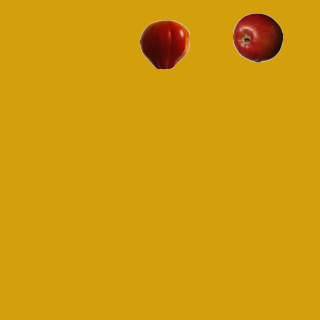Apple Braeburn: (232, 12, 282, 62)
Tomato 1: (139, 19, 189, 69)
